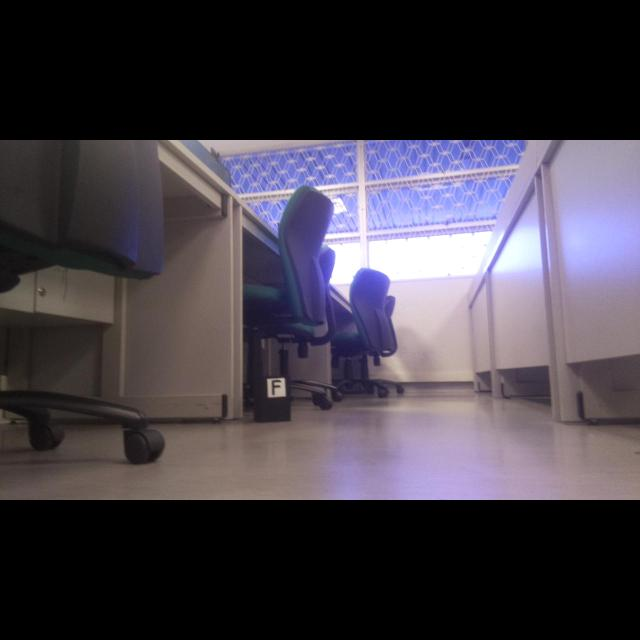F: (272, 380, 281, 395)
